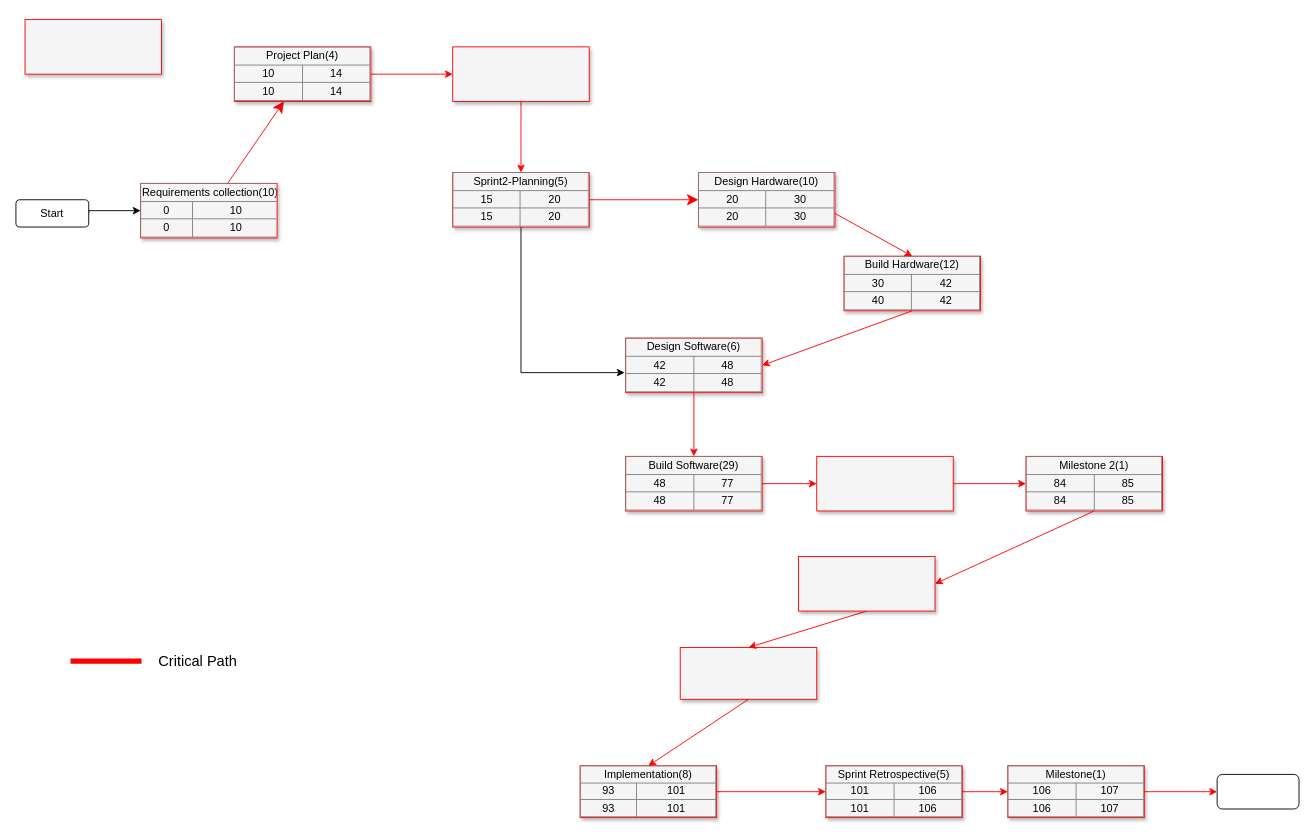
This 1315x840 diagram has some shape labels left out. Each missing label, with the centre of its shape:
Activity name(Duration) EST LST EFT LFT: point (93, 48)
Execution(4) 89 93 89 93: point (749, 674)
Finish: point (1257, 791)
Milestone 1(1) 14 15 14 15: point (521, 75)
Sprint Retrospective(7) 77 84 84 84: point (885, 484)
Sprint3 Planning(4) 85 89 85 89: point (867, 584)
